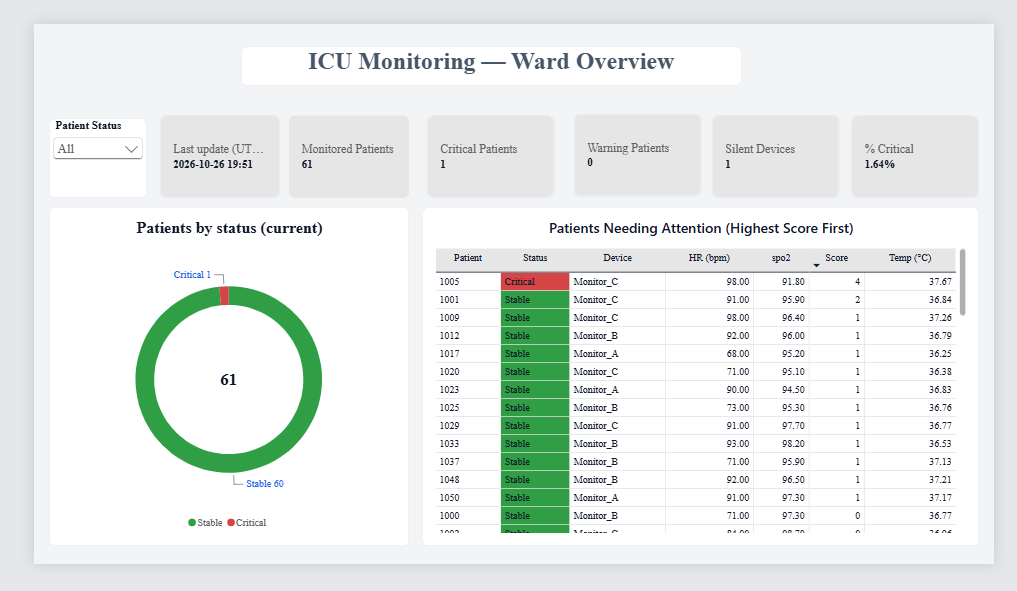

Layout of this report page (visuals, bound fields, positions):
{"tool":"powerbi","page":{"name":"Ward overview","canvas":[1280,720],"ordinal":0},"visuals":[{"type":"textbox","box":[276,30,668,52],"z":0},{"type":"donutChart","title":"Patients by status (current)","fields":{"Category":["gold_patient_current_status.patient_status"],"Y":["_Measures.Monitored Patients"]},"box":[20,244,480,452],"z":1000},{"type":"tableEx","title":"Patients Needing Attention (Highest Score First)","fields":{"Values":["gold_patient_current_status.patient_id","gold_patient_current_status.patient_status","gold_patient_current_status.device_id","gold_patient_current_status.heart_rate","gold_patient_current_status.spo2","gold_patient_current_status.total_score","gold_patient_current_status.temperature_c"]},"box":[518,244,742,452],"z":2000},{"type":"slicer","title":"Select","fields":{"Values":["gold_patient_current_status.patient_status"]},"box":[20,126,130,106],"z":3000},{"type":"cardVisual","fields":{"Data":["_Measures.Monitored Patients"]},"box":[340,122,160,110],"z":4000},{"type":"cardVisual","fields":{"Data":["_Measures.Critical Patients"]},"box":[524,122,170,110],"z":5000},{"type":"cardVisual","fields":{"Data":["_Measures.Warning Patients"]},"box":[720,120,170,110],"z":6000},{"type":"cardVisual","fields":{"Data":["_Measures.Silent Devices"]},"box":[904,122,170,110],"z":7000},{"type":"cardVisual","fields":{"Data":["_Measures.% Critical"]},"box":[1090,122,170,110],"z":8000},{"type":"cardVisual","fields":{"Data":["_Measures.Data As Of"]},"box":[168,122,160,110],"z":9000}]}

Visuals, with their boxes on the page's 1280x720 design canvas (x1, y1, x2, y2). These are canvas units, not pixel positions in the 1017x591 screenshot, which may show the page scaled, cropped or inside an application window:
textbox: (276,30,944,82)
"Patients by status (current)" donutChart: (20,244,500,696)
"Patients Needing Attention (Highest Score First)" tableEx: (518,244,1260,696)
"Select" slicer: (20,126,150,232)
cardVisual - _Measures.Monitored Patients: (340,122,500,232)
cardVisual - _Measures.Critical Patients: (524,122,694,232)
cardVisual - _Measures.Warning Patients: (720,120,890,230)
cardVisual - _Measures.Silent Devices: (904,122,1074,232)
cardVisual - _Measures.% Critical: (1090,122,1260,232)
cardVisual - _Measures.Data As Of: (168,122,328,232)
